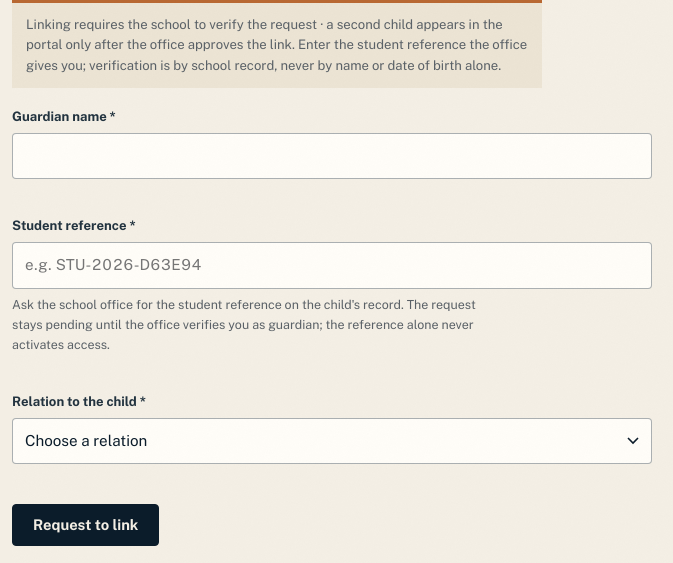
Test: LinkChildForm › announces a recorded request to the pending-request panel
The width and height of the screenshot is (673, 563).
Type "Firdous Ahmad" into the field labelled "Guardian name *". click: {"x": 332, "y": 156}
box: [12,133,652,179]
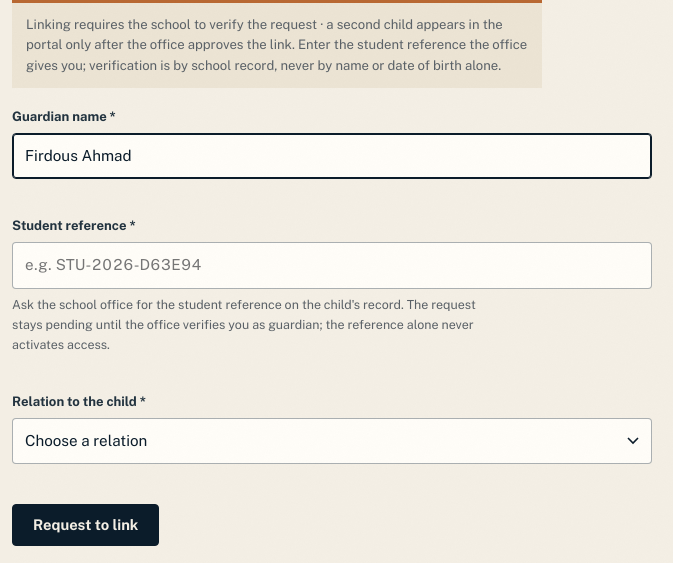
Type "STU-2026-5AB552667D" into the field labelled "Student reference *". click: {"x": 332, "y": 265}
box: [12,242,652,289]
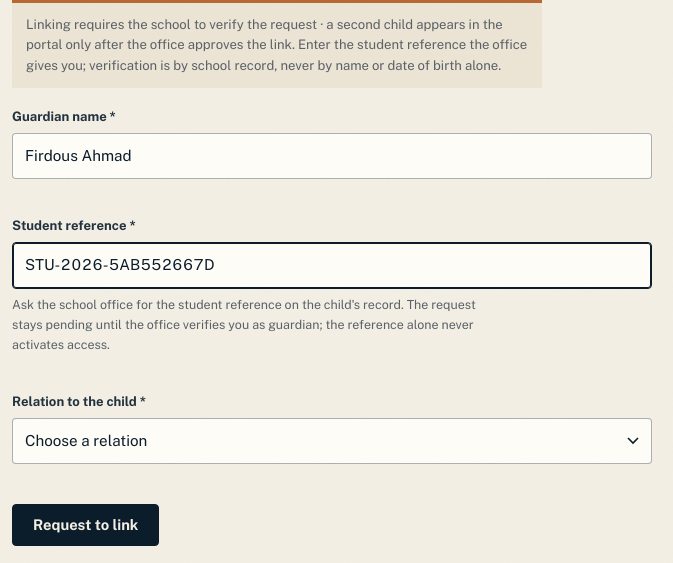
Select "Legal guardian" in the dropdown labelled "Relation to the child *". click: {"x": 332, "y": 441}
box: [12,418,652,464]
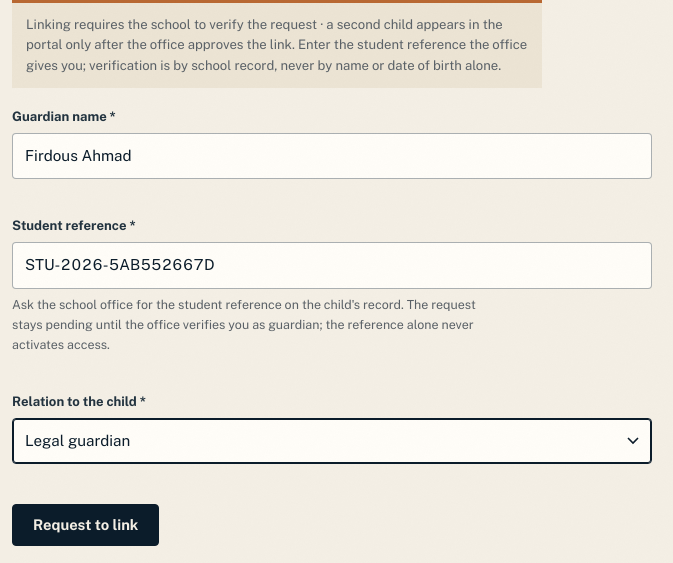
Click the button "Request to link". click: {"x": 86, "y": 525}
box: [12,504,159,546]
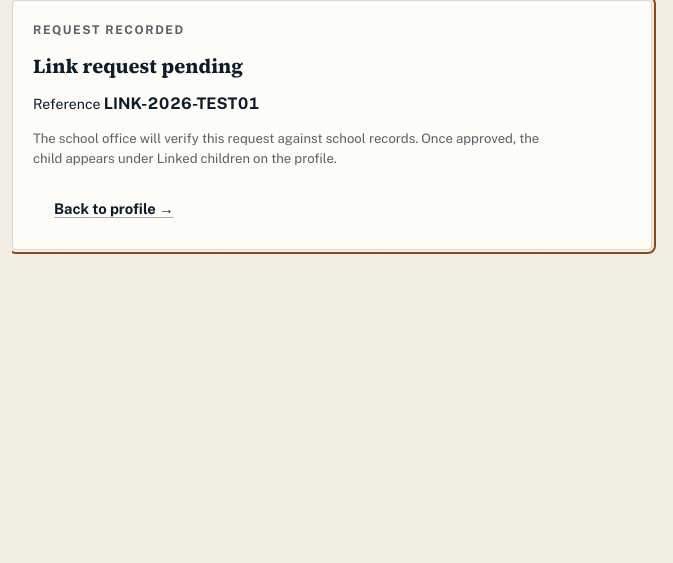
expect the text "Link request pending" is shown: met, box [33,52,243,80]
